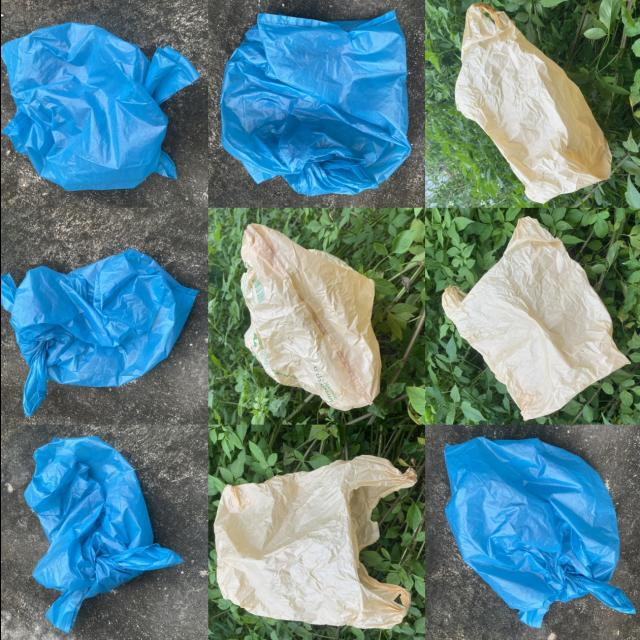plastik: (441, 217, 628, 420), (443, 437, 634, 628), (213, 455, 416, 629), (219, 11, 410, 195), (0, 249, 197, 417), (0, 23, 197, 190), (454, 4, 611, 203), (23, 437, 182, 633), (239, 223, 380, 410)
